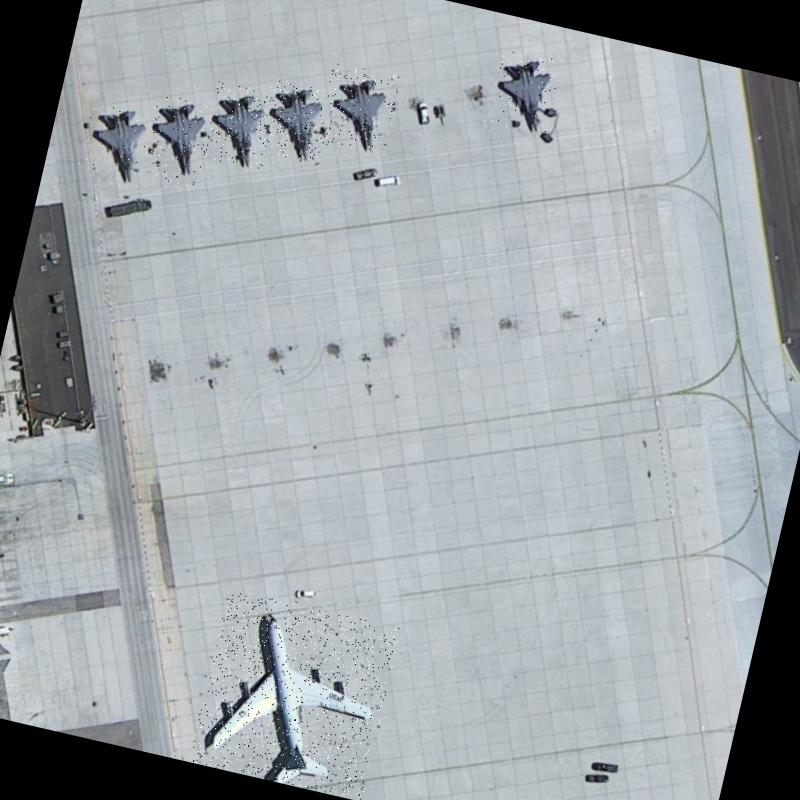A11: (188, 588, 400, 800)
A13: (74, 96, 160, 190), (316, 60, 401, 155), (138, 90, 215, 188), (256, 77, 340, 166), (484, 46, 564, 138), (200, 81, 280, 171)
